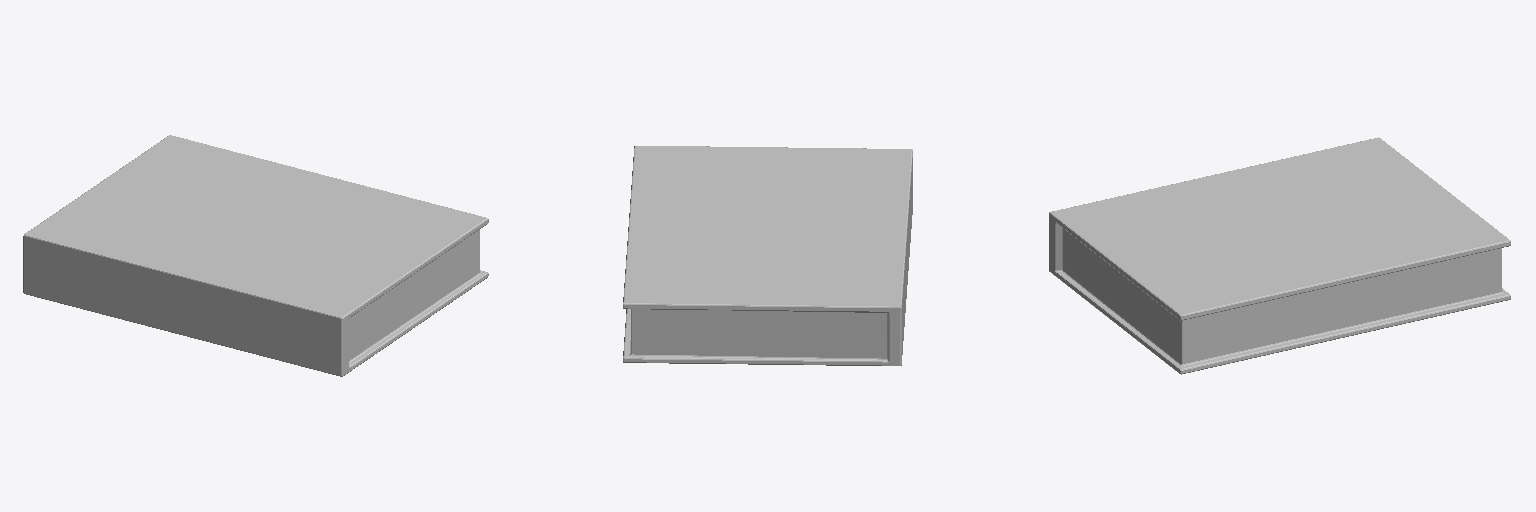
File: buku ketutup.obj
The picture shows the model from 3 angles: view 1: azimuth 30°, elevation 25°; view 2: azimuth 150°, elevation 25°; view 3: azimuth 270°, elevation 25°; orthographic projection.
Parts seen in each view (by area): view 1: pCube75 set_meja_1; view 2: pCube75 set_meja_1; view 3: pCube75 set_meja_1.
Part boxes in pixels (left/top/right/bottom): pCube75 set_meja_1: left=23, top=135, right=488, bottom=376; pCube75 set_meja_1: left=623, top=146, right=912, bottom=365; pCube75 set_meja_1: left=1049, top=137, right=1510, bottom=374.
Size of the model in its own units: 1.12 by 0.1755 by 1.23.